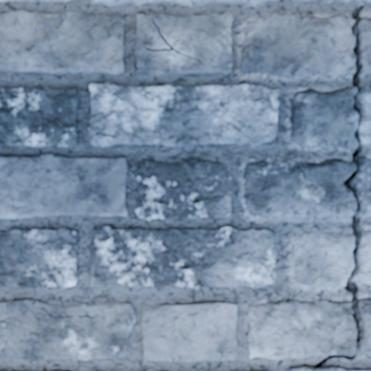brick: (89, 83, 278, 146), (90, 226, 277, 288), (0, 299, 135, 360), (0, 154, 127, 218), (0, 11, 125, 74), (136, 12, 232, 75), (135, 159, 232, 219), (141, 302, 236, 361), (0, 87, 79, 147), (0, 228, 78, 287), (91, 0, 278, 5), (289, 366, 370, 370), (291, 0, 370, 2), (45, 0, 69, 1)
broken_brick: (240, 12, 354, 78), (243, 158, 355, 218), (247, 299, 355, 361), (290, 86, 356, 149), (289, 229, 353, 286), (355, 228, 370, 284), (356, 155, 370, 214), (357, 296, 370, 356), (359, 84, 370, 144), (360, 16, 370, 67)
crack: (301, 2, 370, 368)
